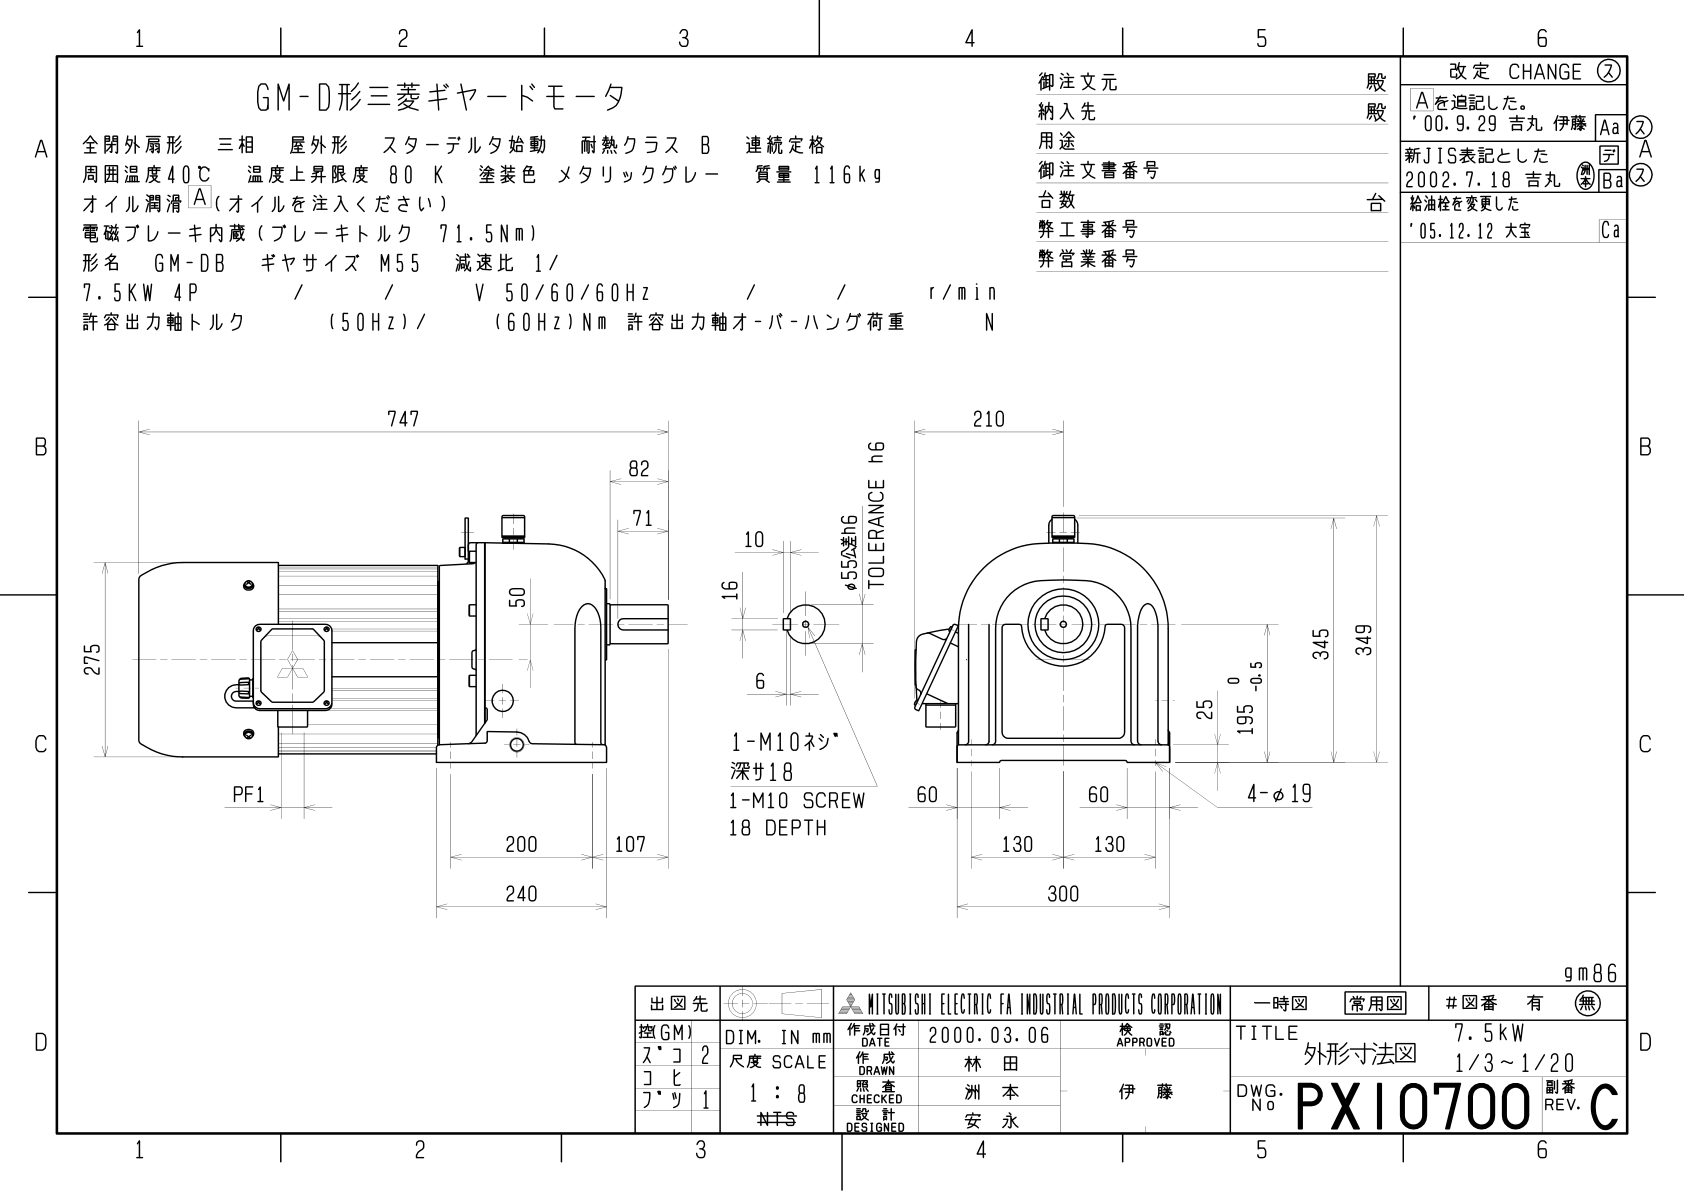GM_D_屋外＿三相_脚: (75, 369, 1393, 947)
